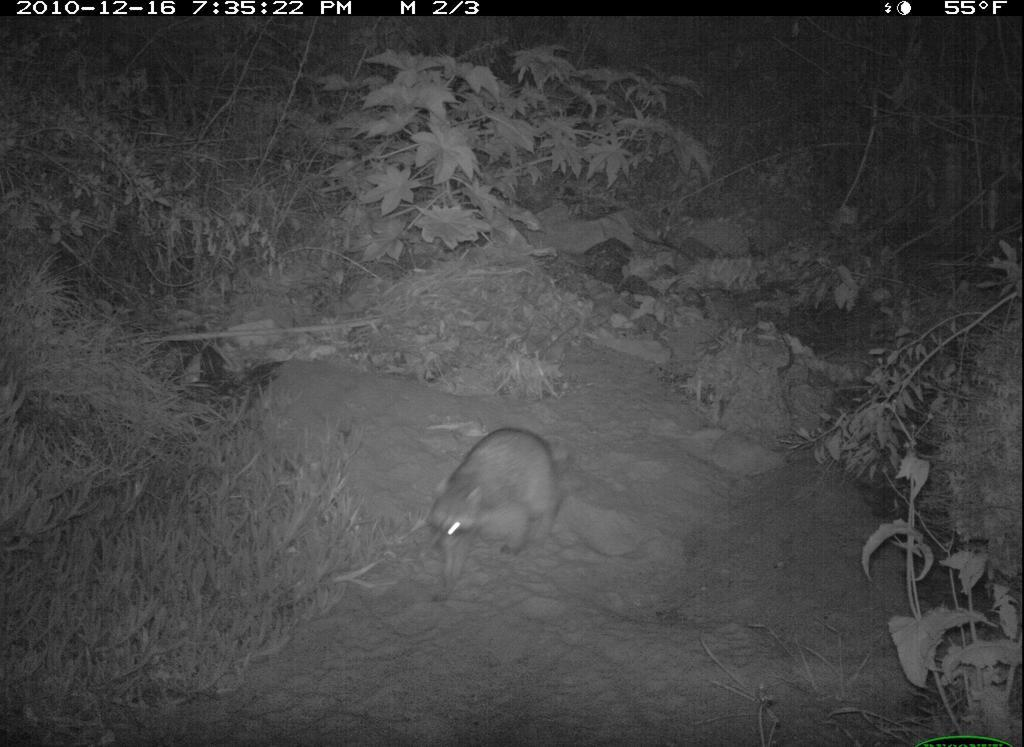raccoon: (420, 424, 593, 587)
